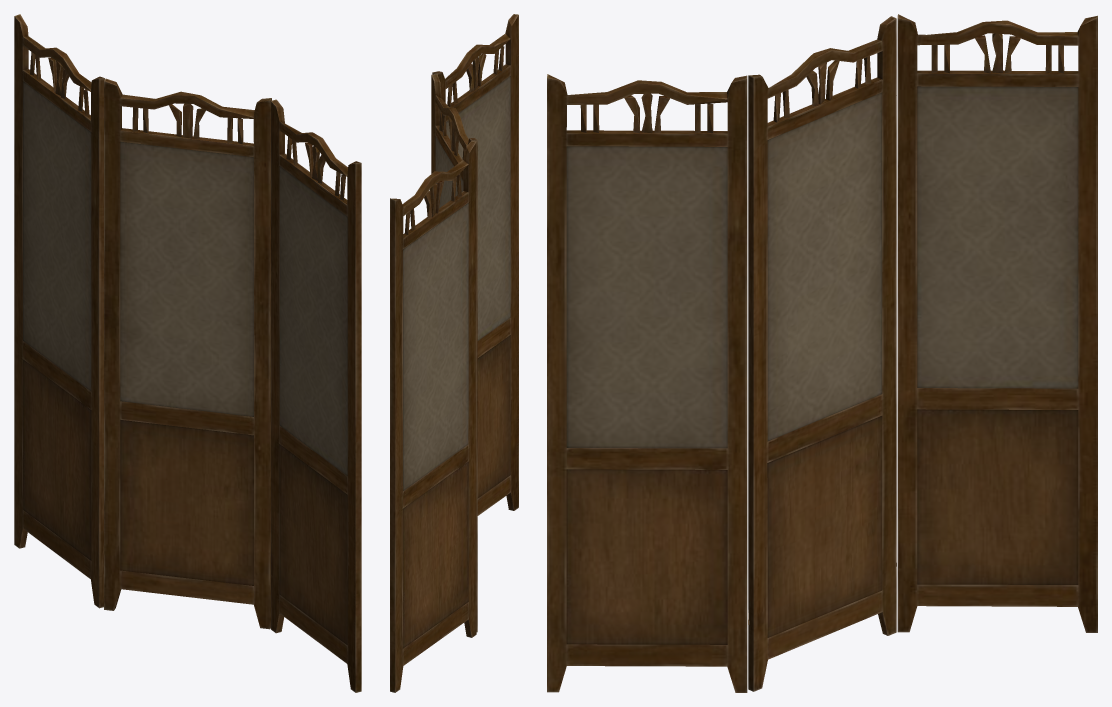
File: screen-folding.lod1.glb
The picture shows the model from 3 angles, left to right: view 1: azimuth 30°, elevation 25°; view 2: azimuth 150°, elevation 25°; view 3: azimuth 270°, elevation 25°; orthographic projection. The views are drawn at different scales.
Parts seen in each view (by area): view 1: screen-folding; view 2: screen-folding; view 3: screen-folding.
Part boxes in pixels (bbox=[...]): screen-folding: bbox=[14, 14, 361, 692]; screen-folding: bbox=[390, 14, 518, 692]; screen-folding: bbox=[547, 14, 1097, 692].
Bounding box in the file's own units: 0.4028 × 1.81 × 1.47.
1 material, 1 textured.
